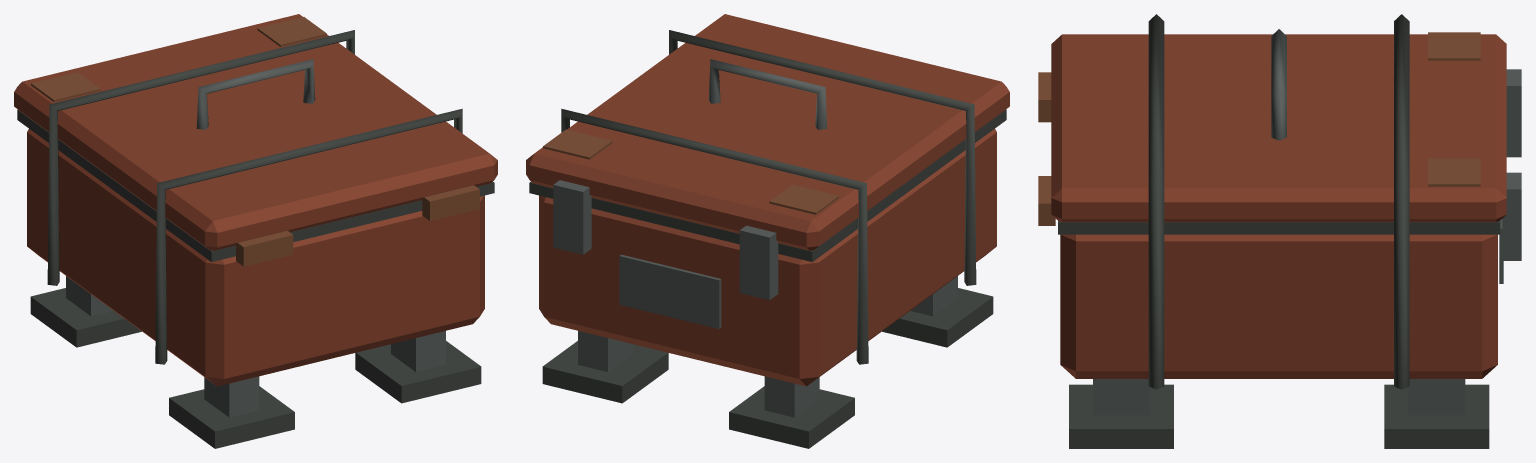
The model's file is vaz_2106_upgrade_toolbox.glb.
The picture shows the model from 3 angles, left to right: view 1: azimuth 30°, elevation 25°; view 2: azimuth 150°, elevation 25°; view 3: azimuth 270°, elevation 25°; orthographic projection. The views are drawn at different scales.
Parts seen in each view (by area): view 1: vaz_2106_upgrade_toolbox; view 2: vaz_2106_upgrade_toolbox; view 3: vaz_2106_upgrade_toolbox.
Part boxes in pixels (<box>): vaz_2106_upgrade_toolbox: <box>14,14,497,448</box>; vaz_2106_upgrade_toolbox: <box>526,14,1009,448</box>; vaz_2106_upgrade_toolbox: <box>1038,14,1521,448</box>.
Bounding box in the file's own units: 0.464 × 0.3959 × 0.552.
